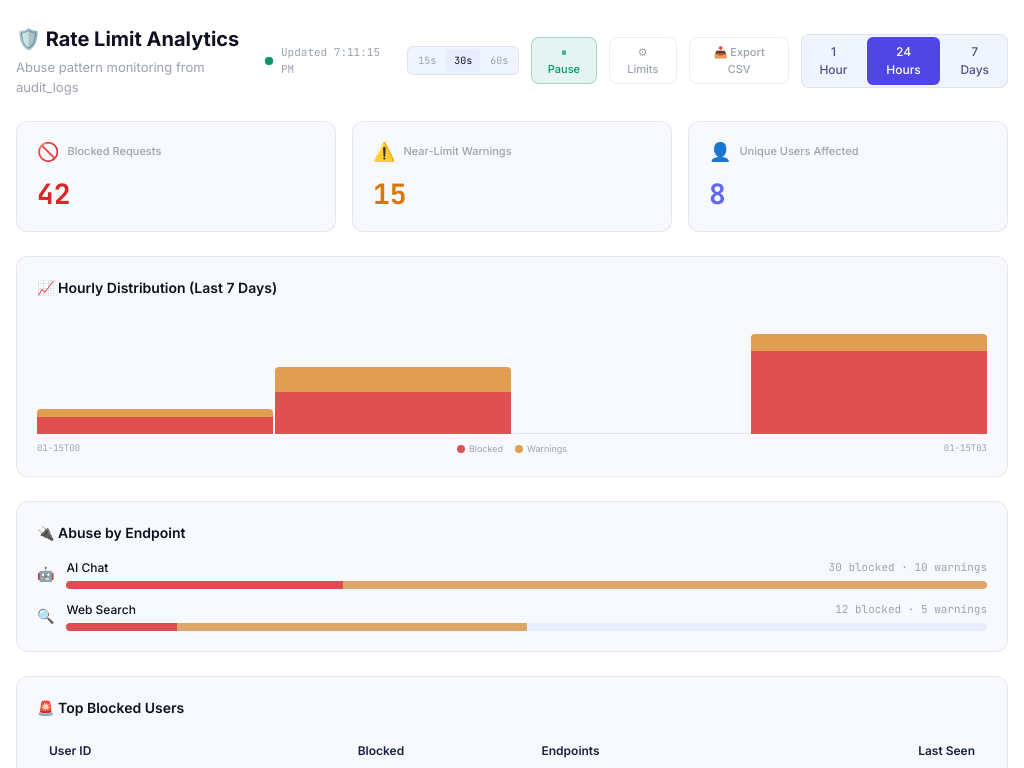
Test: RateLimitDashboard › shows In-Memory badge when redis is not configured
expect the text "42" is shown: met, box [37,175,71,212]
Click the button "⚙ Limits".
click(643, 60)  # box [609,37,677,84]
(page scrolled)
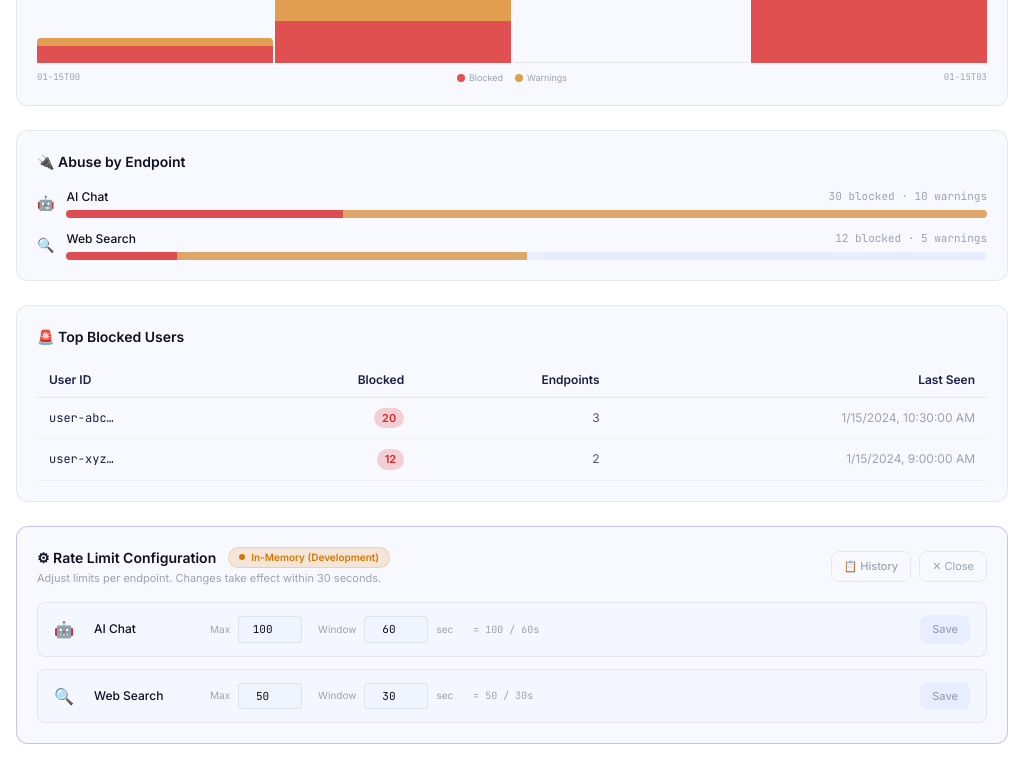
expect the text "In-Memory (Development)" is shown: met, box [228,546,390,568]
